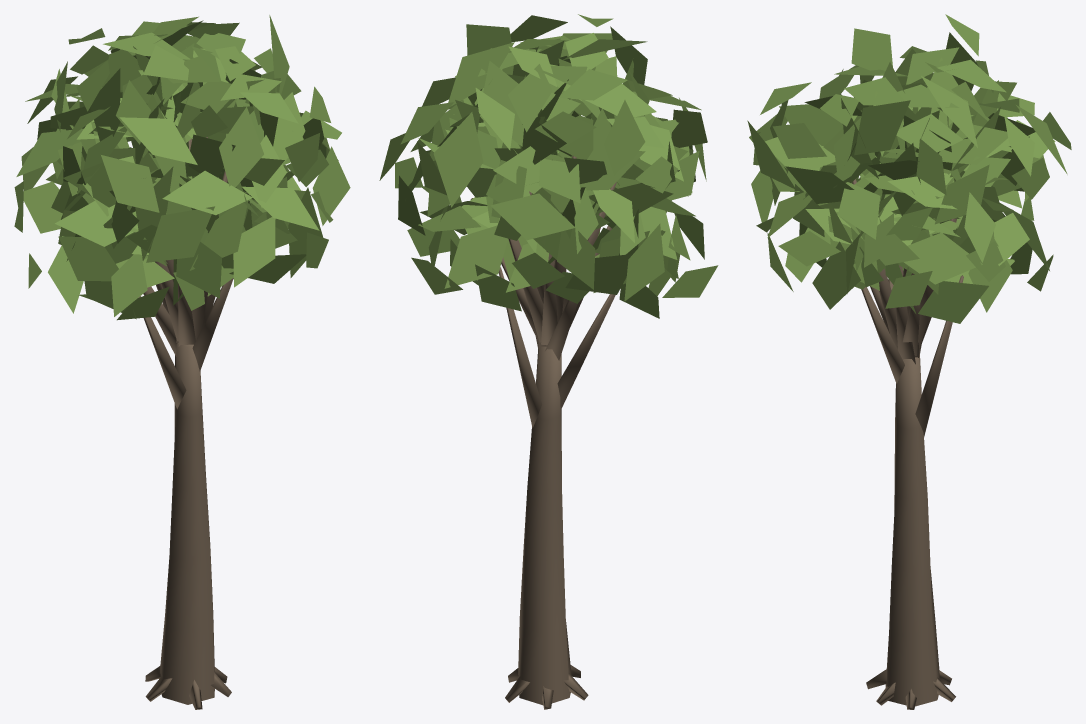
File: oak-tall-lod2.glb
3 views of the same model, side by side, from view 1: azimuth 30°, elevation 25°; view 2: azimuth 150°, elevation 25°; view 3: azimuth 270°, elevation 25° (orthographic). The views are drawn at different scales.
Visible parts, largest first — view 1: tree_oak-tall_LOD2; view 2: tree_oak-tall_LOD2; view 3: tree_oak-tall_LOD2.
Boxes of the visible parts, <box> form: tree_oak-tall_LOD2: <box>14,15,350,709</box>; tree_oak-tall_LOD2: <box>379,14,718,709</box>; tree_oak-tall_LOD2: <box>747,14,1071,709</box>.
Bounding box in the file's own units: 7.24 × 14.55 × 6.69.
